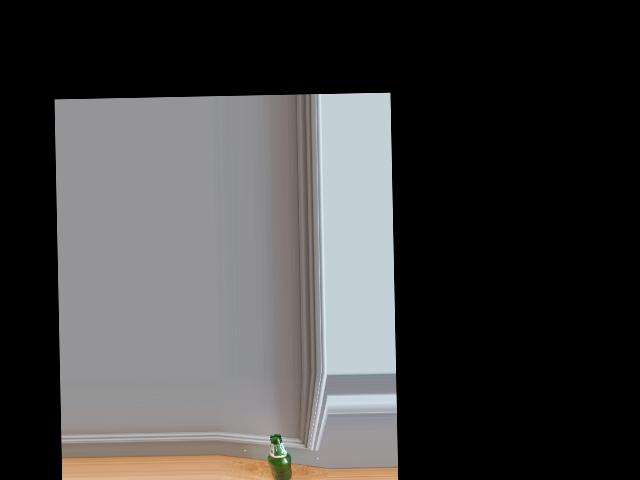beer: (267, 434, 292, 480)
